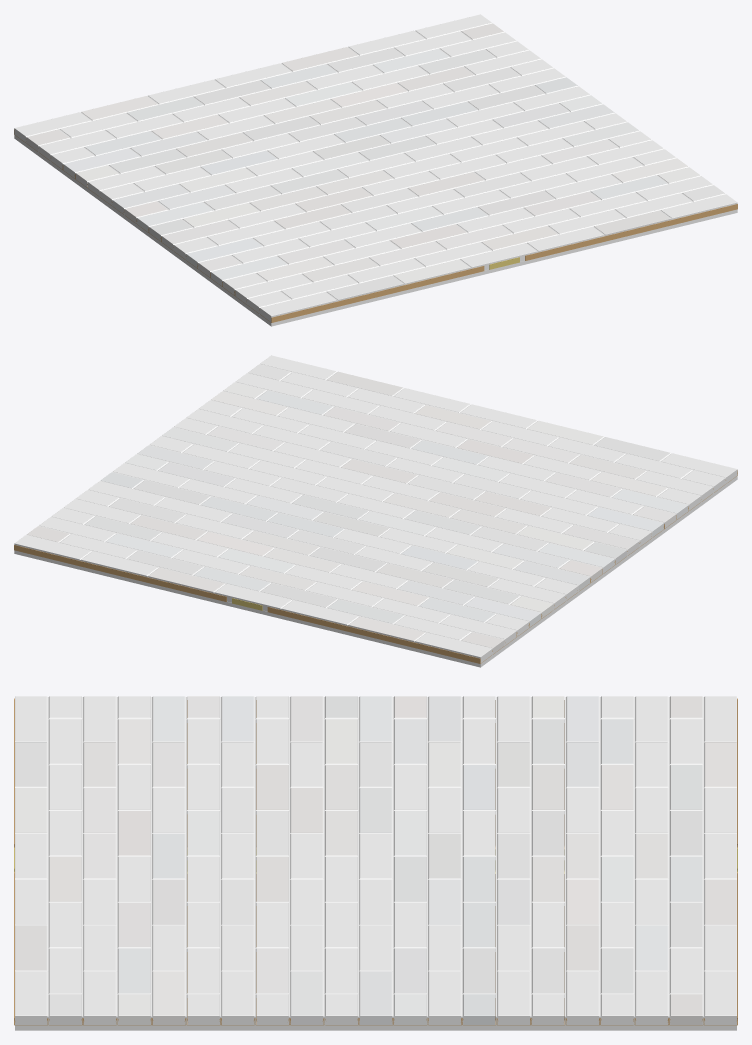
File: board_7.glb
3 renders of one model, top to bottom at view 1: azimuth 30°, elevation 25°; view 2: azimuth 150°, elevation 25°; view 3: azimuth 270°, elevation 25°, orthographic. The views are drawn at different scales.
Visible parts, largest first — view 1: B01, MORTAR, B02, backing, CLIP_R700; view 2: B01, MORTAR, B02, backing, CLIP_R700; view 3: B01, MORTAR, B02, backing, CLIP_R700.
Boxes of the visible parts, left/top/right/bottom form: B01: left=14, top=14, right=737, bottom=321; MORTAR: left=25, top=23, right=725, bottom=313; B02: left=26, top=23, right=724, bottom=312; backing: left=14, top=135, right=737, bottom=326; CLIP_R700: left=14, top=129, right=737, bottom=322; B01: left=14, top=355, right=737, bottom=662; MORTAR: left=26, top=364, right=726, bottom=654; B02: left=27, top=364, right=725, bottom=653; backing: left=14, top=476, right=737, bottom=667; CLIP_R700: left=14, top=470, right=737, bottom=663; B01: left=15, top=696, right=736, bottom=1024; MORTAR: left=15, top=696, right=736, bottom=1025; B02: left=49, top=696, right=702, bottom=1024; backing: left=15, top=1025, right=736, bottom=1030; CLIP_R700: left=14, top=698, right=737, bottom=1025.
Size of the model in its own units: 1.53 by 0.033 by 1.47.
